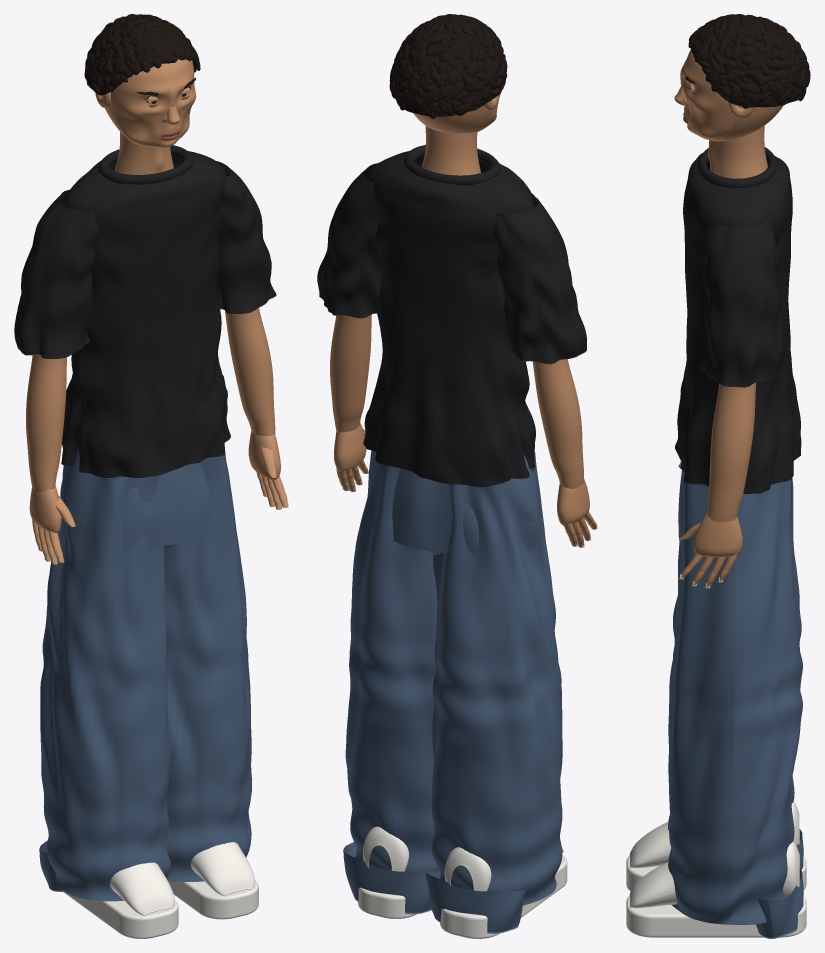
The model's file is personaje-v3.glb.
The picture shows the model from 3 angles, left to right: view 1: azimuth 30°, elevation 25°; view 2: azimuth 150°, elevation 25°; view 3: azimuth 270°, elevation 25°; orthographic projection. The views are drawn at different scales.
Visible parts, largest first — view 1: pants-leg-l, tee-body, pants-leg-r, sleeve-l, sleeve-r, pants-seat, hair-texture, head, arm-l, arm-r, sole-l, upper-l (+7 smaller); view 2: pants-leg-l, tee-body, pants-leg-r, sleeve-l, hair-texture, sleeve-r, pants-seat, arm-l, arm-r, hem-back-l, hem-back-r, neck (+9 smaller); view 3: pants-leg-r, tee-body, sleeve-r, hair-texture, arm-r, head, sole-r, neck, upper-r, hem-back-r, palm-r, upper-l (+5 smaller).
Part boxes in pixels (x1,y1,x2,y2): pants-leg-l: (40,466,171,901); tee-body: (61,151,230,477); pants-leg-r: (164,451,251,881); sleeve-l: (14,189,99,358); sleeve-r: (181,161,276,313); pants-seat: (64,448,219,553); hair-texture: (84,14,200,93); head: (105,59,196,147); arm-l: (26,354,66,492); arm-r: (224,308,275,435); sole-l: (63,892,178,938); upper-l: (110,862,174,915); pants-leg-l: (431,452,562,905); tee-body: (363,151,535,487); pants-leg-r: (345,450,437,871); sleeve-l: (493,193,586,364); hair-texture: (389,14,507,118); sleeve-r: (317,162,381,318); pants-seat: (392,454,540,554); arm-l: (532,359,583,488); arm-r: (330,314,371,432); hem-back-l: (424,870,527,933); hem-back-r: (343,842,440,914); neck: (421,126,480,175); pants-leg-r: (668,472,802,924); tee-body: (675,153,801,493); sleeve-r: (700,218,783,387); hair-texture: (688,14,810,108); arm-r: (707,382,756,522); head: (680,49,783,141); sole-r: (626,895,806,937); neck: (708,126,767,178); upper-r: (629,841,799,908); hem-back-r: (755,868,803,938); palm-r: (693,512,742,557); upper-l: (629,801,799,868).
Bounding box in the file's own units: 0.5709 × 1.86 × 0.3496.
